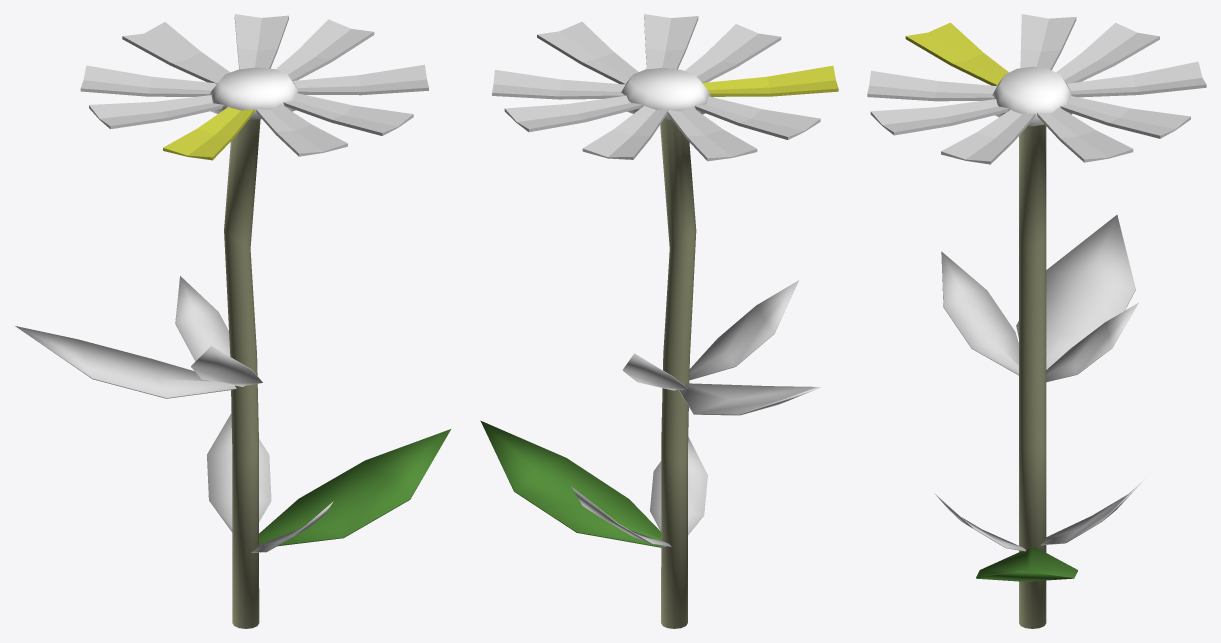
The model's file is Flower.fbx.
3 renders of one model, left to right at view 1: azimuth 30°, elevation 25°; view 2: azimuth 150°, elevation 25°; view 3: azimuth 270°, elevation 25°, orthographic.
Parts seen in each view (by area): view 1: Flower_15, Flower, Flower_3, Flower_2, Flower_8, Flower_12, Flower_4, Flower_11, Flower_9, Flower_13, Flower_7, Flower_10 (+3 smaller); view 2: Flower_15, Flower, Flower_5, Flower_3, Flower_14, Flower_9, Flower_8, Flower_10, Flower_13, Flower_6, Flower_7, Flower_12 (+4 smaller); view 3: Flower_15, Flower_3, Flower_5, Flower_11, Flower_14, Flower_6, Flower_12, Flower_7, Flower_10, Flower_8, Flower_9, Flower_13 (+4 smaller).
Boxes of the visible parts, <box> form: Flower_15: <box>210,67,298,628</box>; Flower: <box>259,429,450,546</box>; Flower_3: <box>15,326,236,398</box>; Flower_2: <box>207,413,271,531</box>; Flower_8: <box>293,64,428,95</box>; Flower_12: <box>80,65,216,96</box>; Flower_4: <box>175,276,230,361</box>; Flower_11: <box>122,22,230,83</box>; Flower_9: <box>275,19,374,80</box>; Flower_13: <box>89,95,223,129</box>; Flower_7: <box>283,93,413,135</box>; Flower_10: <box>234,14,288,69</box>; Flower_15: <box>621,68,712,628</box>; Flower: <box>480,420,661,547</box>; Flower_5: <box>689,280,798,380</box>; Flower_3: <box>679,383,820,415</box>; Flower_14: <box>702,65,838,96</box>; Flower_9: <box>492,70,625,99</box>; Flower_8: <box>537,21,638,84</box>; Flower_10: <box>504,95,641,132</box>; Flower_13: <box>694,96,820,139</box>; Flower_6: <box>685,24,781,82</box>; Flower_7: <box>644,14,698,69</box>; Flower_12: <box>667,107,757,161</box>; Flower_15: <box>992,66,1072,628</box>; Flower_3: <box>1016,215,1135,369</box>; Flower_5: <box>941,251,1018,375</box>; Flower_11: <box>1067,61,1206,97</box>; Flower_14: <box>905,22,1008,85</box>; Flower_6: <box>867,70,996,101</box>; Flower_12: <box>1056,22,1159,83</box>; Flower_7: <box>870,99,1008,135</box>; Flower_10: <box>1060,96,1190,138</box>; Flower_8: <box>941,109,1035,164</box>; Flower_9: <box>1037,107,1133,162</box>; Flower_13: <box>1020,14,1076,70</box>.
Bounding box in the file's own units: 0.2303 × 0.1724 × 0.3055.
